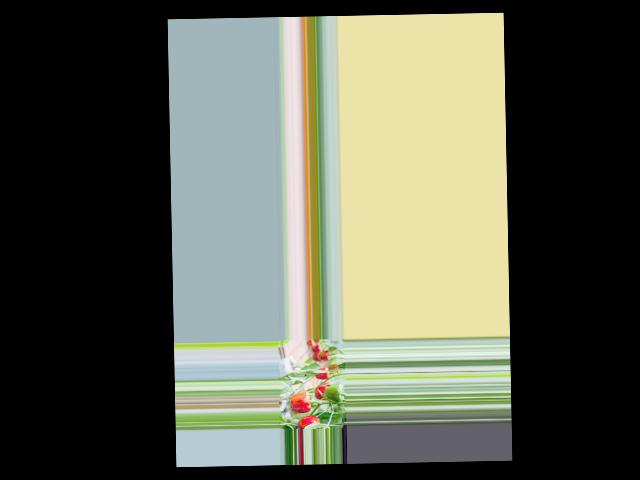bell_pepper: (311, 365, 333, 379)
